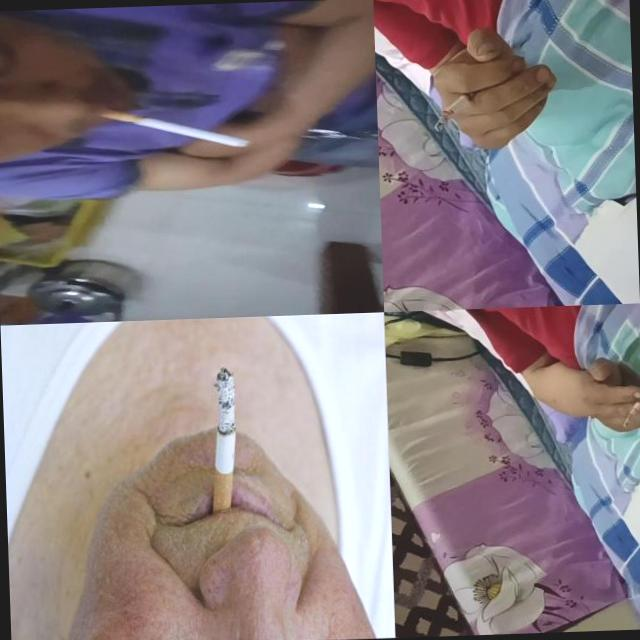cigarette: (97, 102, 247, 152), (206, 364, 239, 522), (431, 87, 482, 131), (620, 382, 640, 427)
